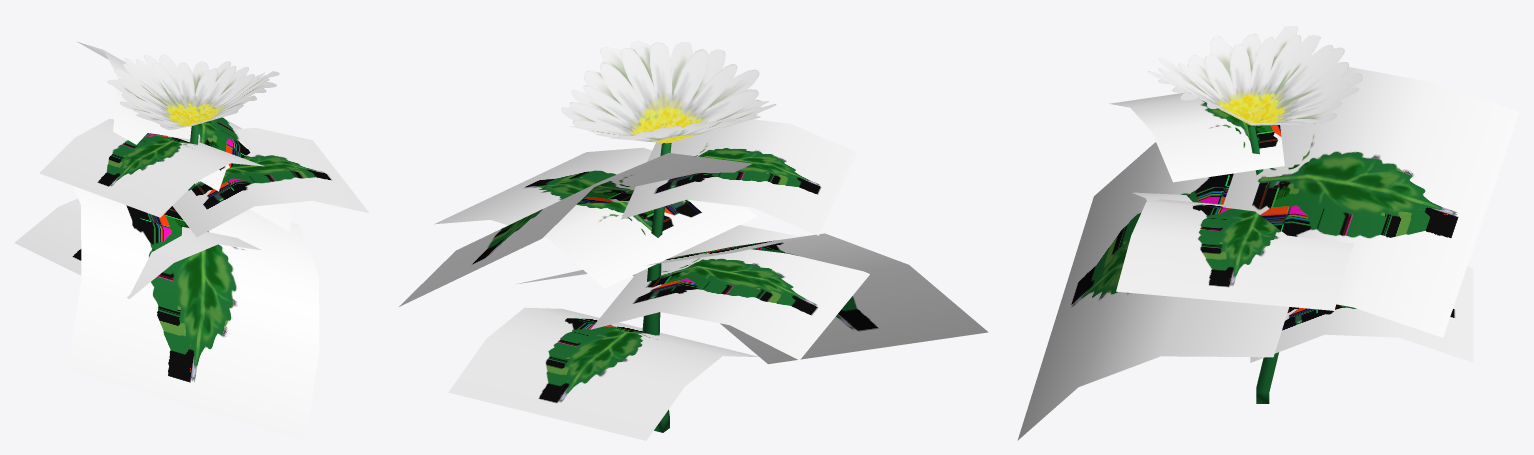
File: Daisy 1.fbx
3 views of the same model, side by side, from view 1: azimuth 30°, elevation 25°; view 2: azimuth 150°, elevation 25°; view 3: azimuth 270°, elevation 25° (orthographic). The views are drawn at different scales.
Parts seen in each view (by area): view 1: Daisy 1; view 2: Daisy 1; view 3: Daisy 1.
Boxes of the visible parts, x1,y1,x2,y2 form: Daisy 1: (14,41,369,440); Daisy 1: (399,41,988,440); Daisy 1: (1017,26,1519,440).
Bounding box in the file's own units: 0.3445 × 0.2845 × 0.3559.
